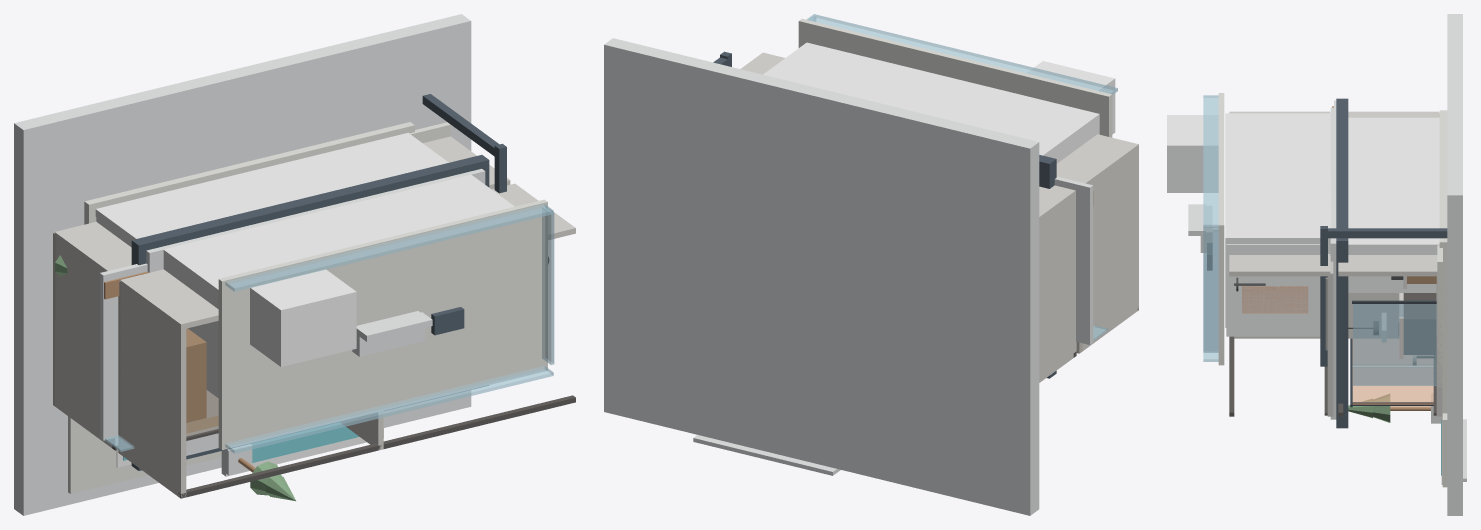
File: modern_villa_complete_with_interiors.glb
3 views of the same model, side by side, from view 1: azimuth 30°, elevation 25°; view 2: azimuth 150°, elevation 25°; view 3: azimuth 270°, elevation 25° (orthographic). The views are drawn at different scales.
Parts seen in each view (by area): view 1: Floating site foundation, Rooftop terrace slab, Upper rear volume, Ground rear wall, Bedroom_left_wall, Roof access penthouse, LivingRoom_left_wall, Upper cantilever steel fascia, Rooftop rear parapet, Rooftop front parapet, Ground floor slab, Front pool terrace (+18 smaller); view 2: Floating site foundation, Upper rear volume, Rooftop terrace slab, Bedroom_left_wall, LivingRoom_left_wall, Left balcony slab, Rooftop rear parapet, Bedroom_back_wall, Roof access penthouse, Pool basin front wall, LivingRoom_back_wall; view 3: Upper rear volume, Ground rear wall, Floating site foundation, Upper right wall, Right side glazing, Roof access penthouse, Upper cantilever steel fascia, Ground front glazing right, Bathroom_back_wall, Kitchen_back_wall, Rooftop rear parapet, Rooftop right parapet (+20 smaller).
Boxes of the visible parts, box(x1,y1,x2,y2) form: Floating site foundation: box(14, 14, 471, 515); Rooftop terrace slab: box(218, 199, 547, 450); Upper rear volume: box(163, 174, 514, 397); Ground rear wall: box(95, 133, 448, 242); Bedroom_left_wall: box(120, 282, 186, 498); Roof access penthouse: box(250, 269, 356, 366); LivingRoom_left_wall: box(54, 234, 117, 450); Upper cantilever steel fascia: box(131, 155, 489, 470); Rooftop rear parapet: box(225, 204, 553, 291); Rooftop front parapet: box(225, 366, 553, 453); Ground floor slab: box(84, 122, 414, 224); Front pool terrace: box(68, 400, 428, 493); Floating site foundation: box(604, 38, 1039, 515); Upper rear volume: box(763, 42, 1099, 163); Rooftop terrace slab: box(798, 18, 1112, 137); Bedroom_left_wall: box(1082, 146, 1138, 350); LivingRoom_left_wall: box(1039, 192, 1076, 382); Left balcony slab: box(1054, 176, 1093, 344); Rooftop rear parapet: box(806, 14, 1117, 94); Bedroom_back_wall: box(1056, 134, 1138, 183); Roof access penthouse: box(1027, 61, 1115, 134); Pool basin front wall: box(693, 435, 840, 475); LivingRoom_back_wall: box(1039, 185, 1075, 219); Upper rear volume: box(1225, 113, 1331, 327); Ground rear wall: box(1348, 117, 1439, 250); Floating site foundation: box(1447, 14, 1462, 515); Upper right wall: box(1226, 244, 1320, 336); Right side glazing: box(1353, 304, 1436, 385); Roof access penthouse: box(1167, 115, 1218, 192); Upper cantilever steel fascia: box(1336, 98, 1348, 428); Ground front glazing right: box(1352, 367, 1433, 404); Bathroom_back_wall: box(1229, 254, 1330, 276); Kitchen_back_wall: box(1338, 255, 1437, 276); Rooftop rear parapet: box(1203, 95, 1218, 227); Rooftop right parapet: box(1203, 226, 1218, 352).
Size of the model in its own units: 13.6 by 11.4 by 9.5.
